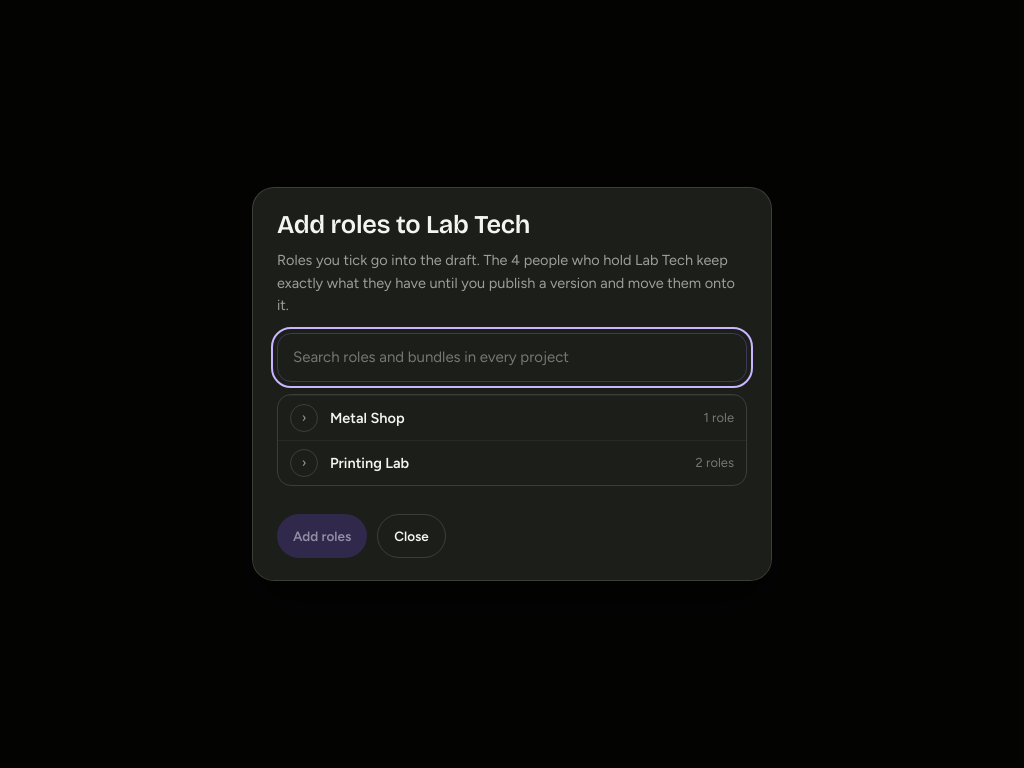
Test: AddRolesToBundle › a chosen role's chip arrives with the chip rise, not a bare tint
Click the button "› Printing Lab 2 roles". click: x=370, y=463
box: [278,441,746,485]
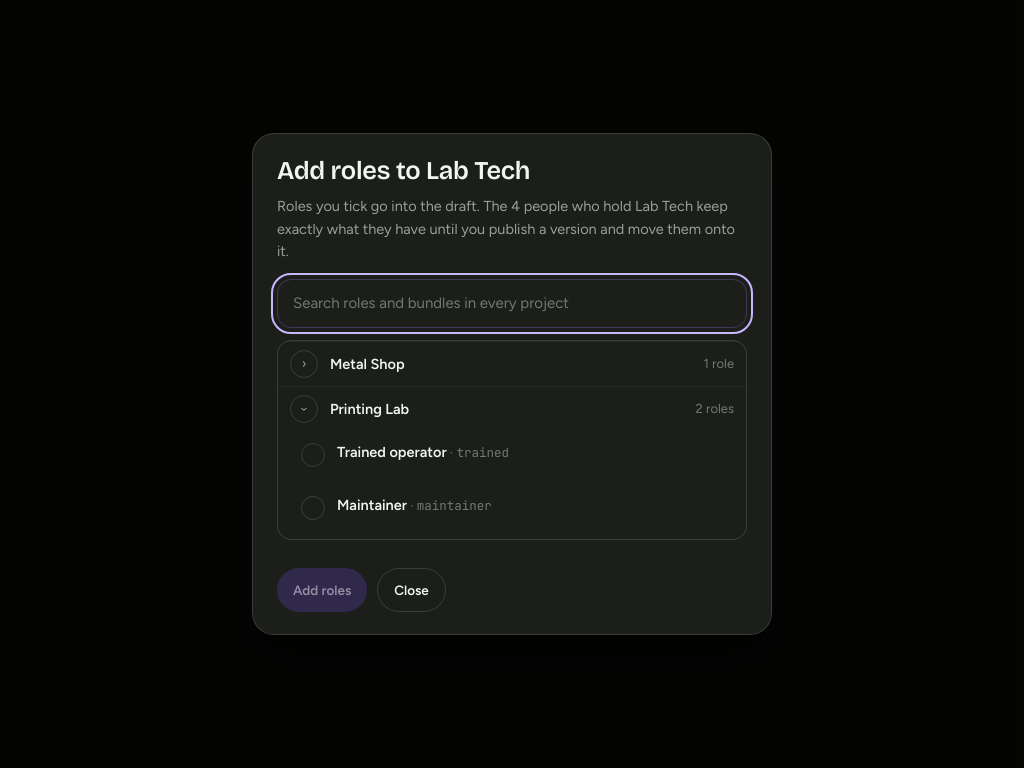
Click the checkbox labelled "Maintainer · maintainer". click: x=396, y=508
box: [301,496,492,520]
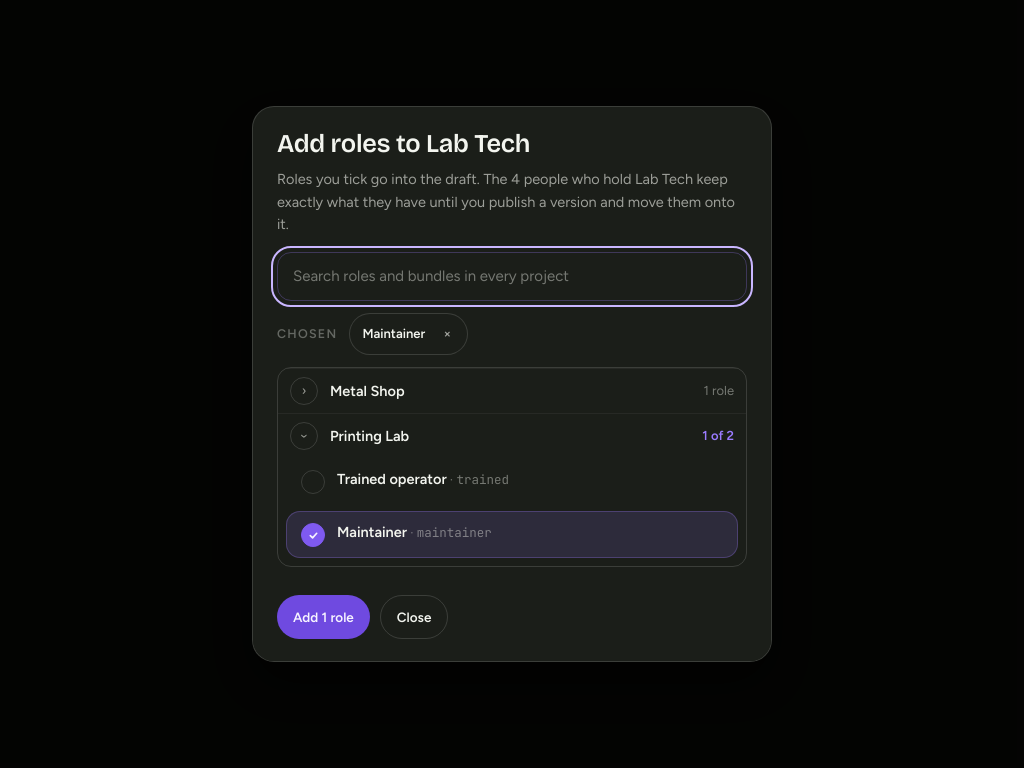
Check: the element named "Remove Maintainer" is shown, box [349,313,468,355]
